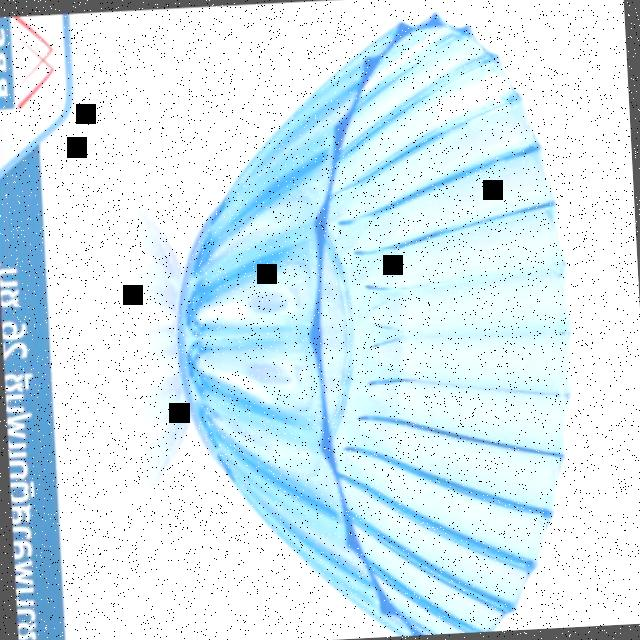plastic_box: (151, 9, 590, 640)
